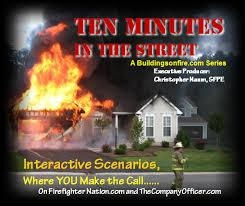fire: (16, 37, 113, 114)
